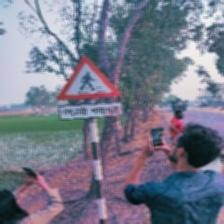Pedestrian-crossing: (56, 55, 124, 121)
